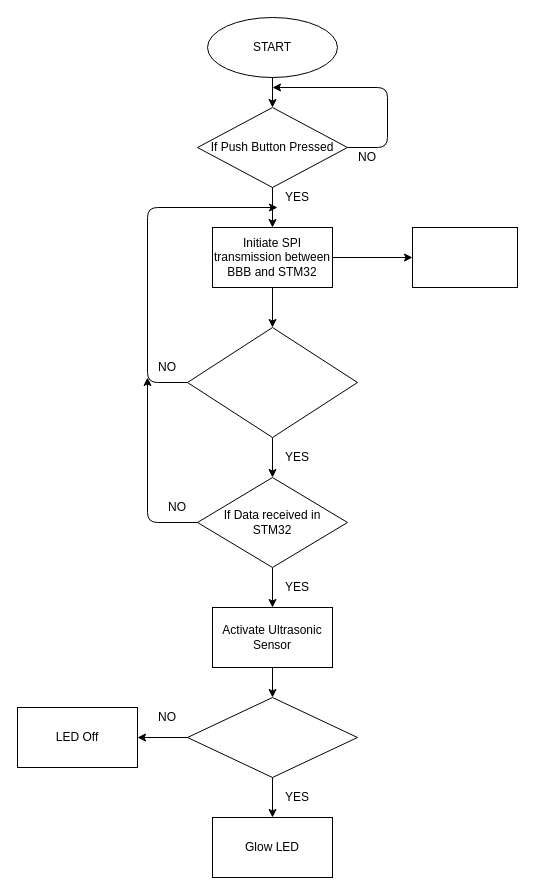
This 535x895 diagram has some shape labels left out. The centre of each missing label's shape, as x and y in pixels:
If Data transmitted from BBB to STM32: the point at 272,382
If object detected: the point at 272,737
LED Should Glow: the point at 465,257
